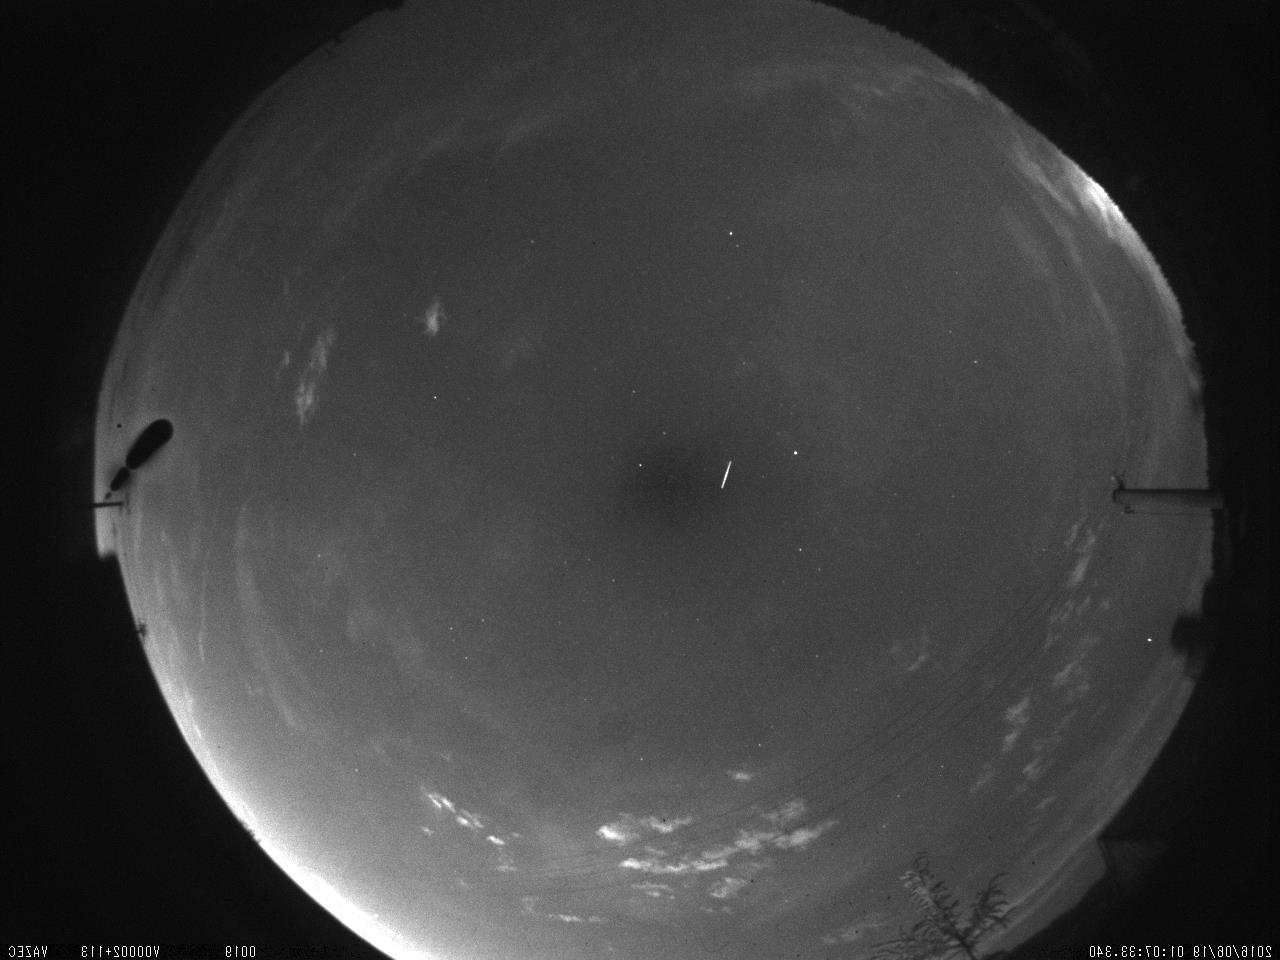satelite: (712, 456, 743, 496)
